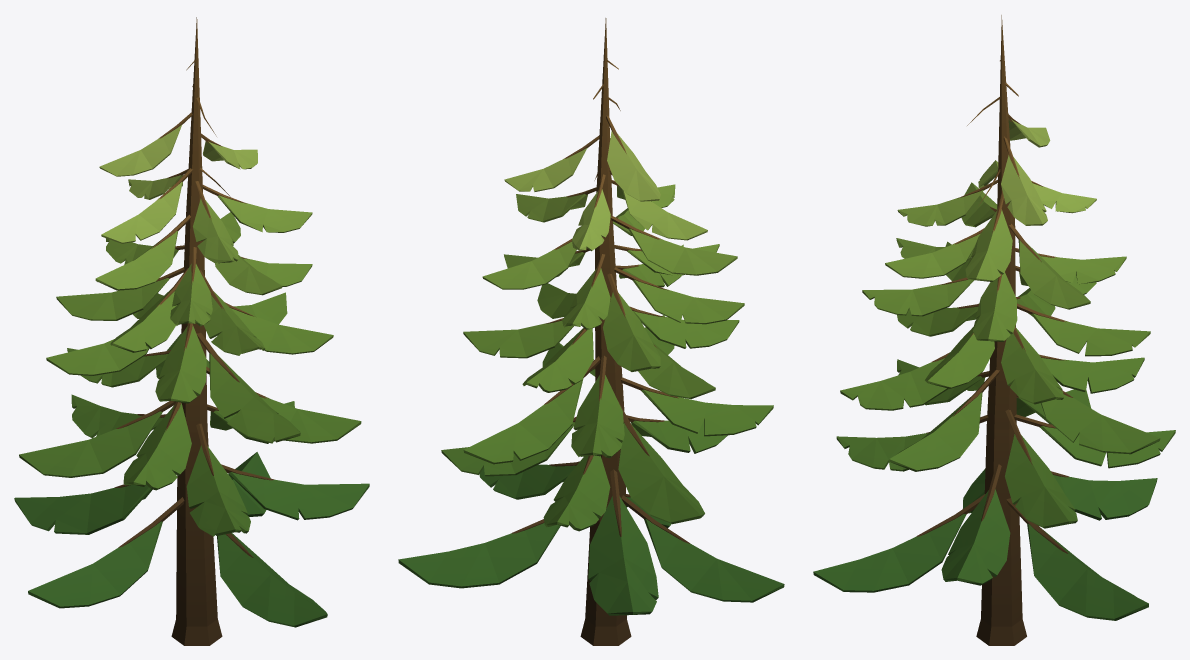
Rendered from Summer_Tree_06.glb.
The picture shows the model from 3 angles, left to right: view 1: azimuth 30°, elevation 25°; view 2: azimuth 150°, elevation 25°; view 3: azimuth 270°, elevation 25°; orthographic projection.
Visible parts, largest first — view 1: Summer_Tree_06_LOD0; view 2: Summer_Tree_06_LOD0; view 3: Summer_Tree_06_LOD0.
Boxes of the visible parts, box(x1,y1,x2,y2) form: Summer_Tree_06_LOD0: box(14, 17, 369, 645); Summer_Tree_06_LOD0: box(398, 18, 784, 645); Summer_Tree_06_LOD0: box(813, 15, 1175, 645).
Size of what is drawn, in the model's own units: 3.04 by 5.57 by 2.94.
1 material, 1 textured.
